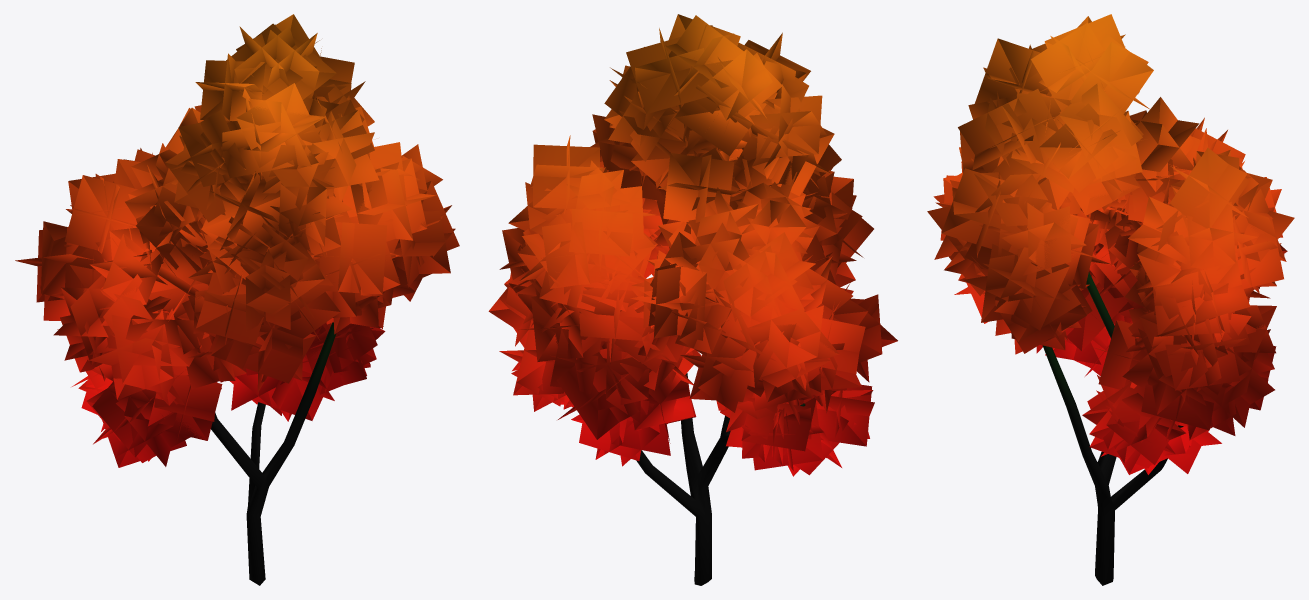
Rendered from TGV_Birch_Tree_05A.fbx.
3 renders of one model, left to right at view 1: azimuth 30°, elevation 25°; view 2: azimuth 150°, elevation 25°; view 3: azimuth 270°, elevation 25°, orthographic.
Visible parts, largest first — view 1: TGV_Birch_Tree_05A_LOD0; view 2: TGV_Birch_Tree_05A_LOD0; view 3: TGV_Birch_Tree_05A_LOD0.
Part boxes in pixels (x1=…): TGV_Birch_Tree_05A_LOD0: x1=15, y1=14, x2=459, y2=585; TGV_Birch_Tree_05A_LOD0: x1=488, y1=14, x2=897, y2=585; TGV_Birch_Tree_05A_LOD0: x1=927, y1=14, x2=1294, y2=585.
Size of the model in its own units: 568 by 897 by 527.
